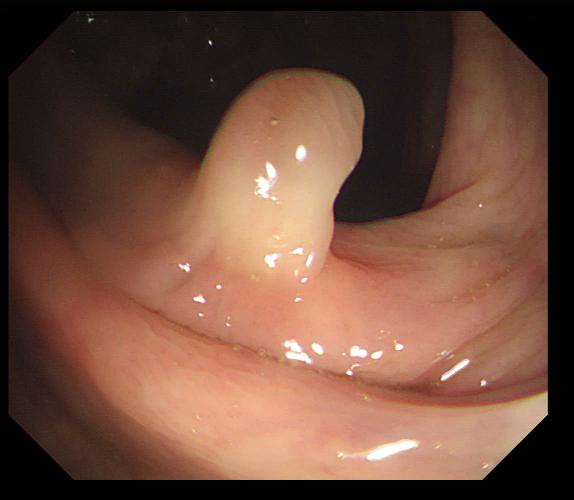polyp: (174, 67, 367, 277)
